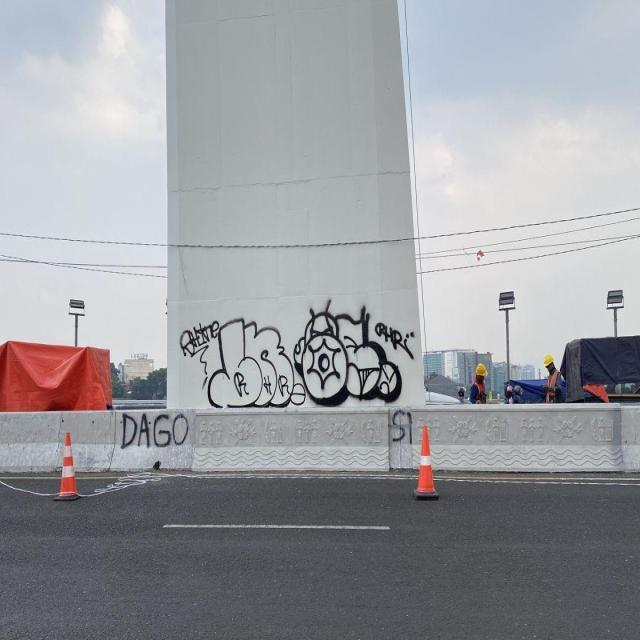nonspitting: (180, 297, 415, 409), (121, 412, 190, 451), (392, 410, 412, 444)
